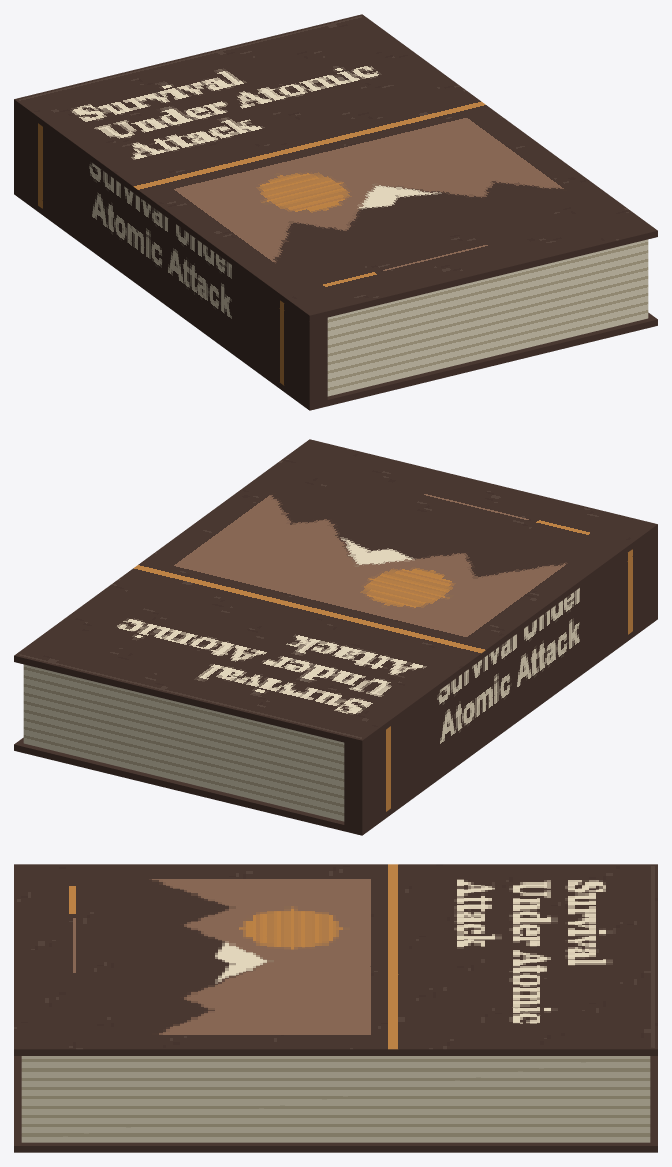
File: atomic_survival.glb
3 renders of one model, top to bottom at view 1: azimuth 30°, elevation 25°; view 2: azimuth 150°, elevation 25°; view 3: azimuth 270°, elevation 25°, orthographic. The views are drawn at different scales.
Visible parts, largest first — view 1: block_front cover, block_spine, block_page block, block_back cover; view 2: block_front cover, block_spine, block_page block, block_back cover; view 3: block_front cover, block_page block, block_back cover.
Boxes of the visible parts, box(x1,y1,x2,y2) form: block_front cover: box(14, 14, 657, 321); block_spine: box(14, 106, 327, 404); block_page block: box(327, 239, 648, 396); block_back cover: box(14, 188, 657, 410); block_front cover: box(14, 439, 657, 746); block_spine: box(344, 531, 657, 829); block_page block: box(23, 664, 344, 821); block_back cover: box(14, 613, 657, 835); block_front cover: box(14, 864, 657, 1055); block_page block: box(21, 1056, 650, 1142); block_back cover: box(14, 1056, 657, 1152).
Bounding box in the file's own units: 0.1734 × 0.0452 × 0.255.
Materials: 1 (1 with a texture image).
